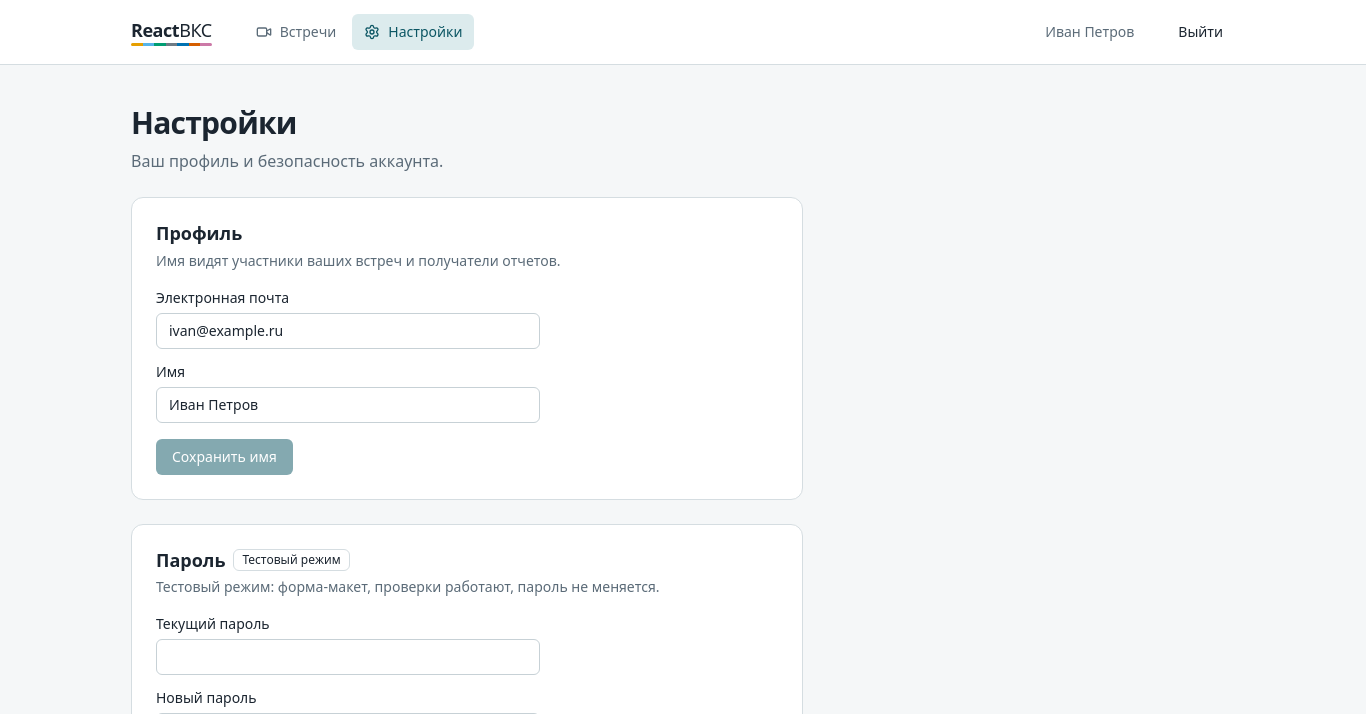
Test case: профиль › пустое имя не уходит на сервер
Clear the field labelled "Имя" at (348, 404), box [156, 386, 540, 422]
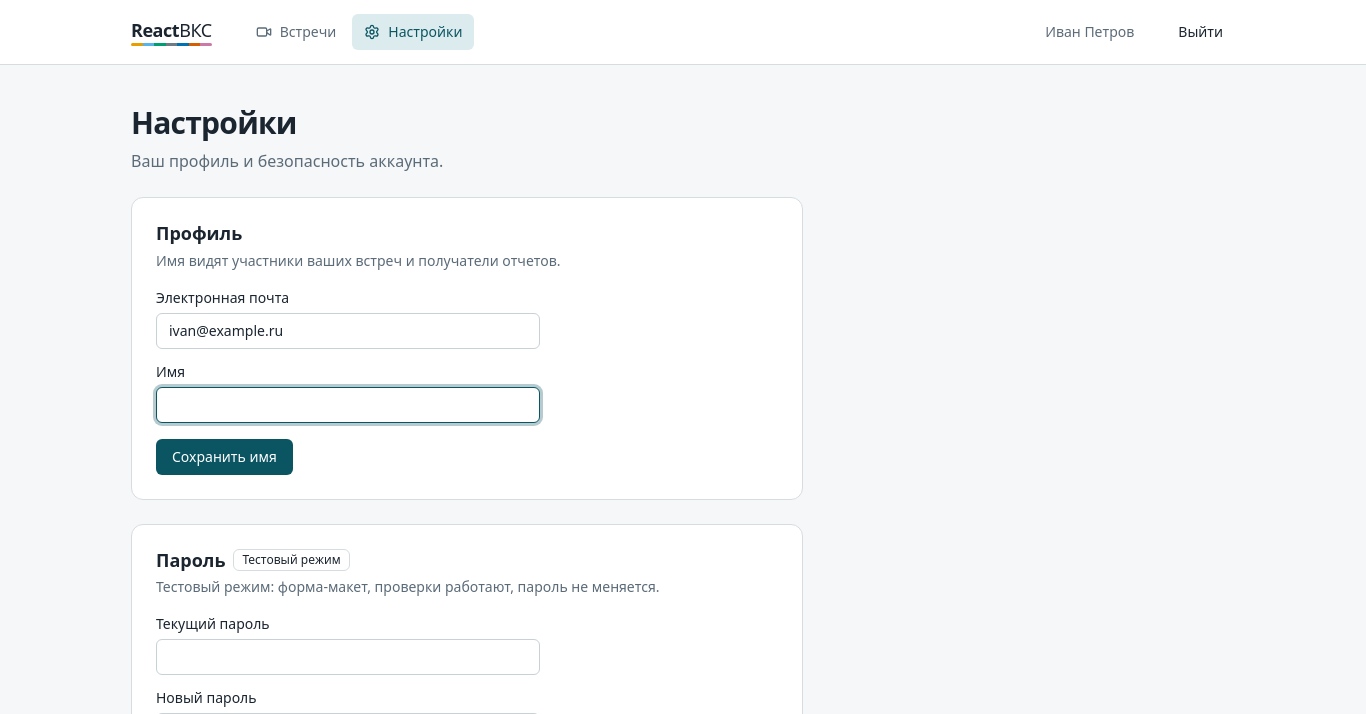
Click the button "Сохранить имя".
click(224, 456)  # box [156, 438, 293, 474]
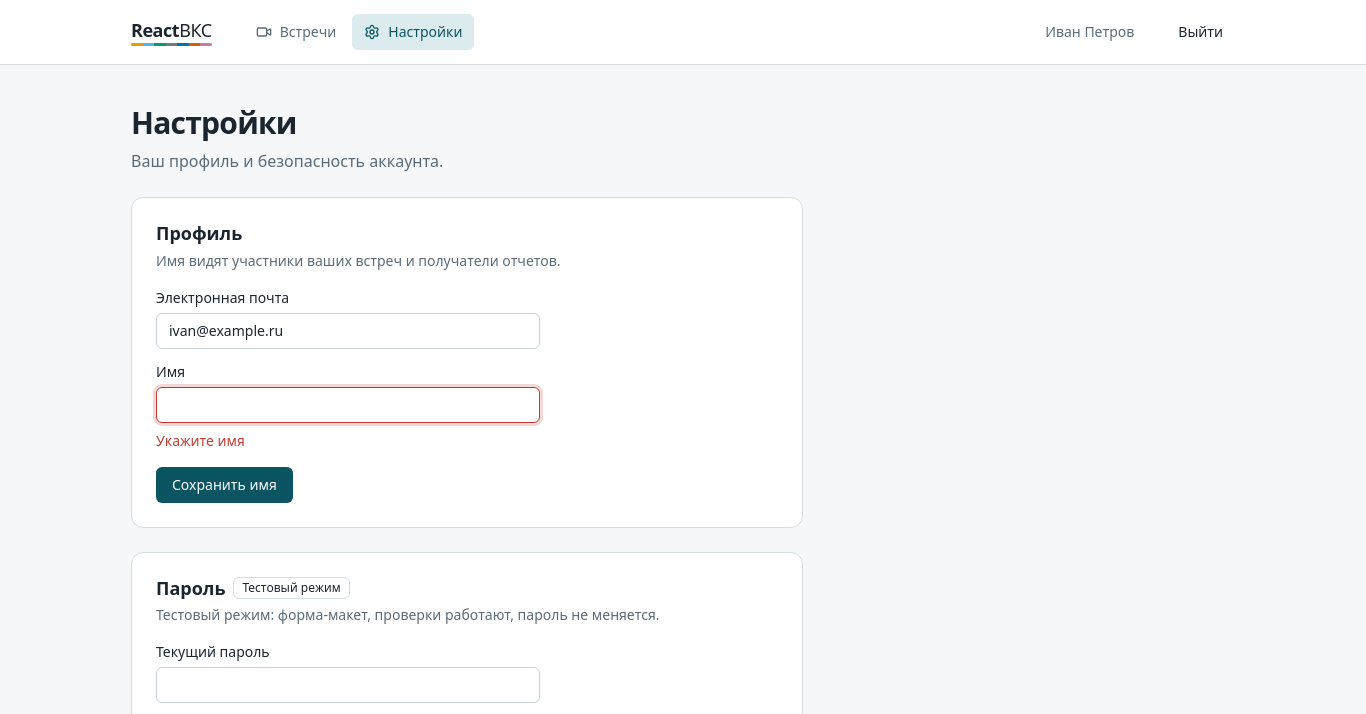
Result: the text "Укажите имя" is shown at [156, 430, 245, 450]
